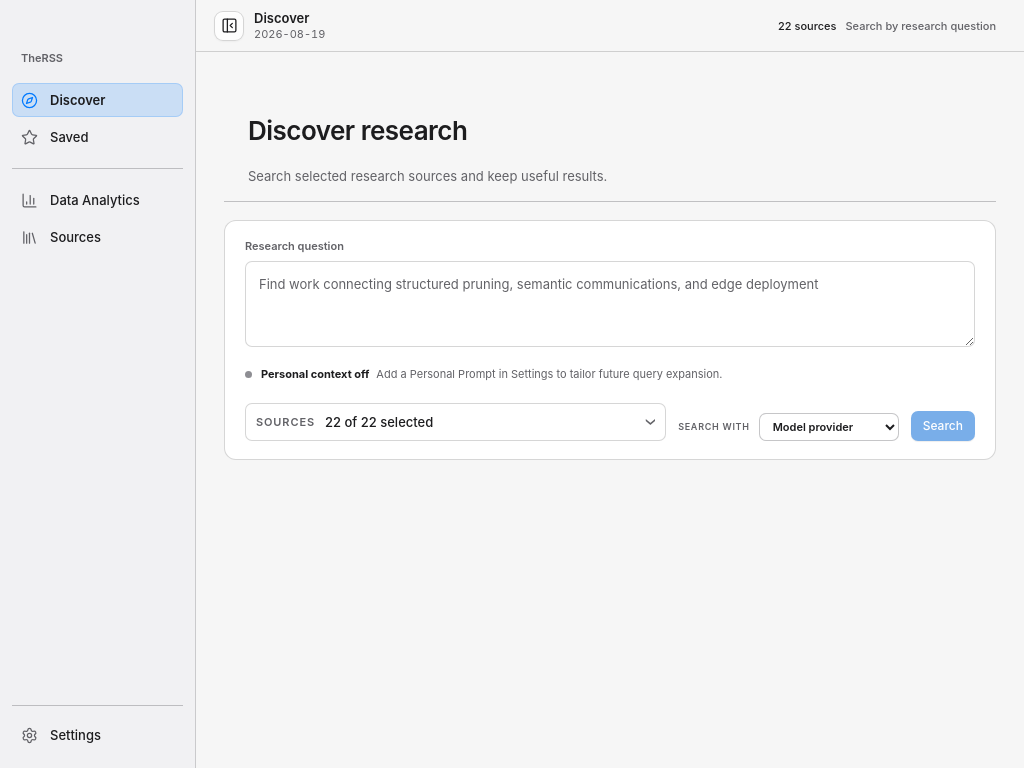
it: Saved source update in the compatibility UI › keeps data intact on a failed update and allows a local lookup retry
Click the button with aria-label "02 Saved": click(98, 137) x1=12 y1=120 x2=183 y2=154
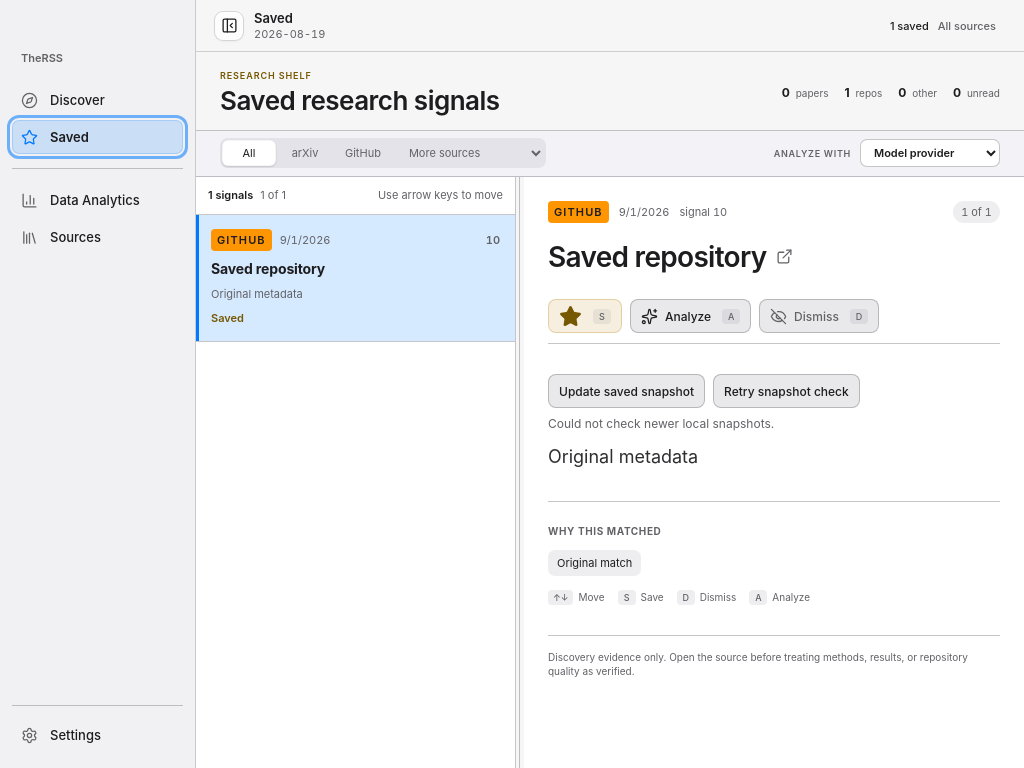
Click the button "Retry snapshot check": click(786, 391) x1=713 y1=374 x2=860 y2=408
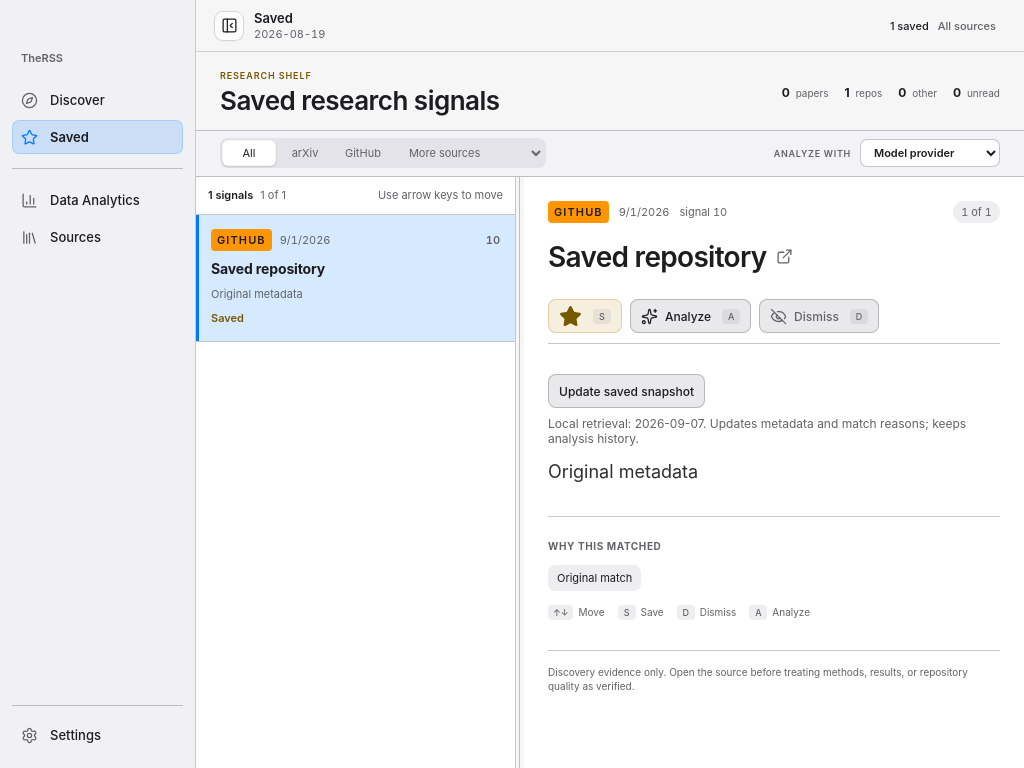
Click the button "Update saved snapshot": click(627, 391) x1=548 y1=374 x2=705 y2=408
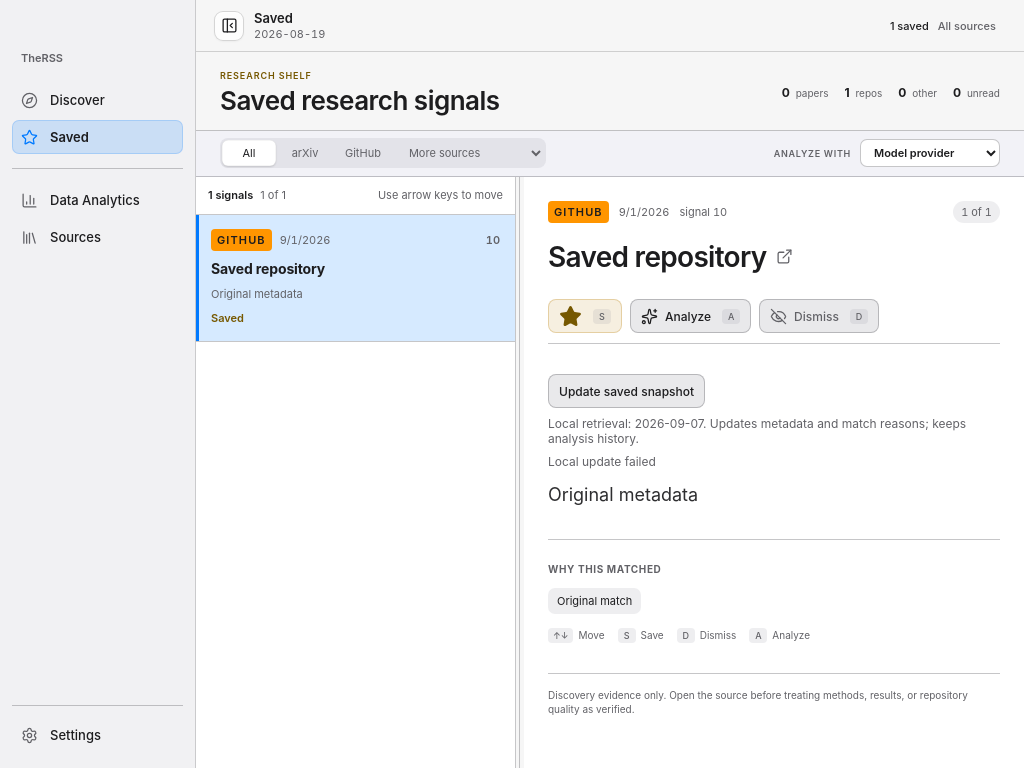
expect the text "Original metadata" below "Local update failed" is shown: met, box x1=548 y1=484 x2=698 y2=505
expect the text "Local update failed" is shown: met, box x1=548 y1=454 x2=656 y2=469
